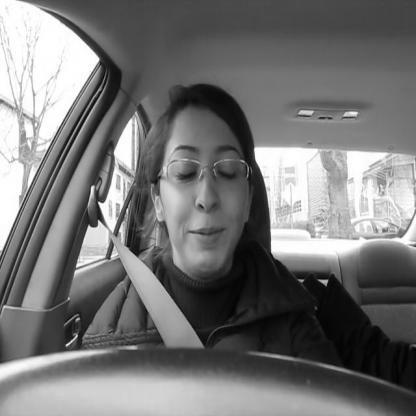seatbelt: (82, 61, 265, 416)
